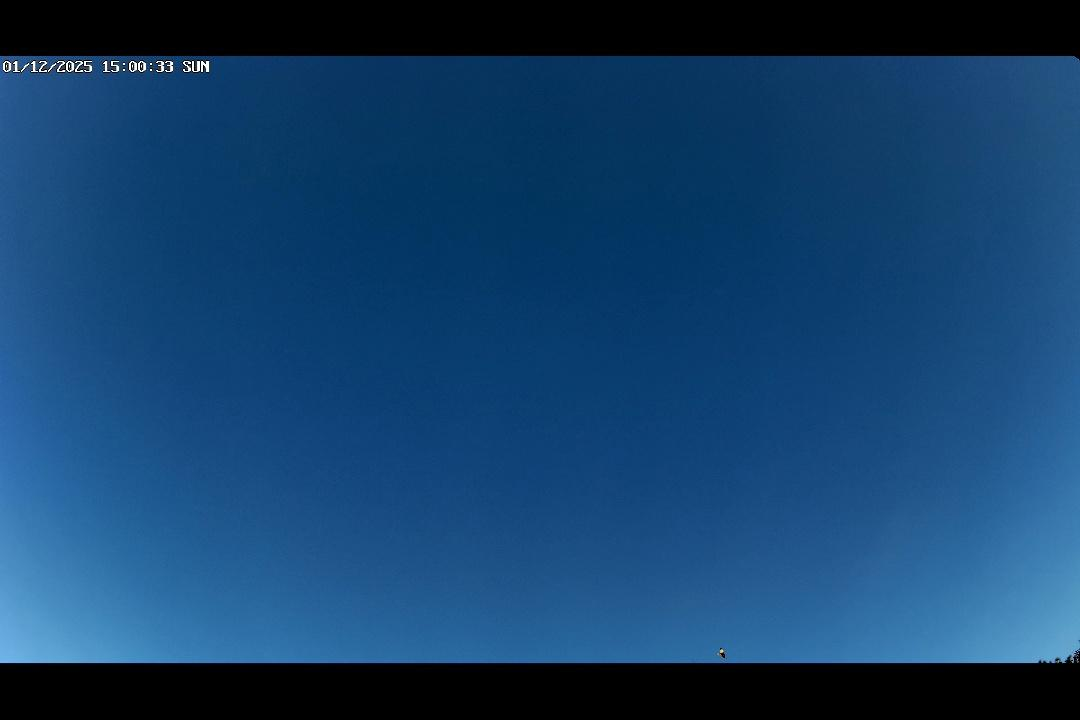WildLife: (710, 643, 736, 662)
